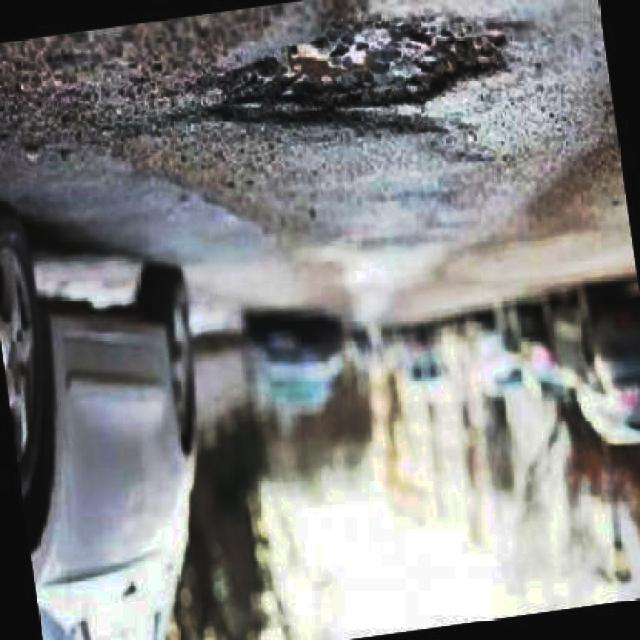pothole: (221, 14, 514, 131)
